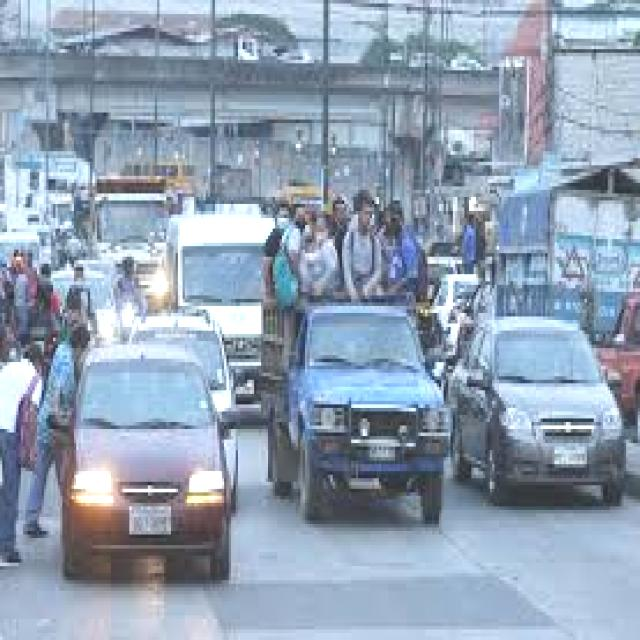CMT: (268, 307, 453, 528)
